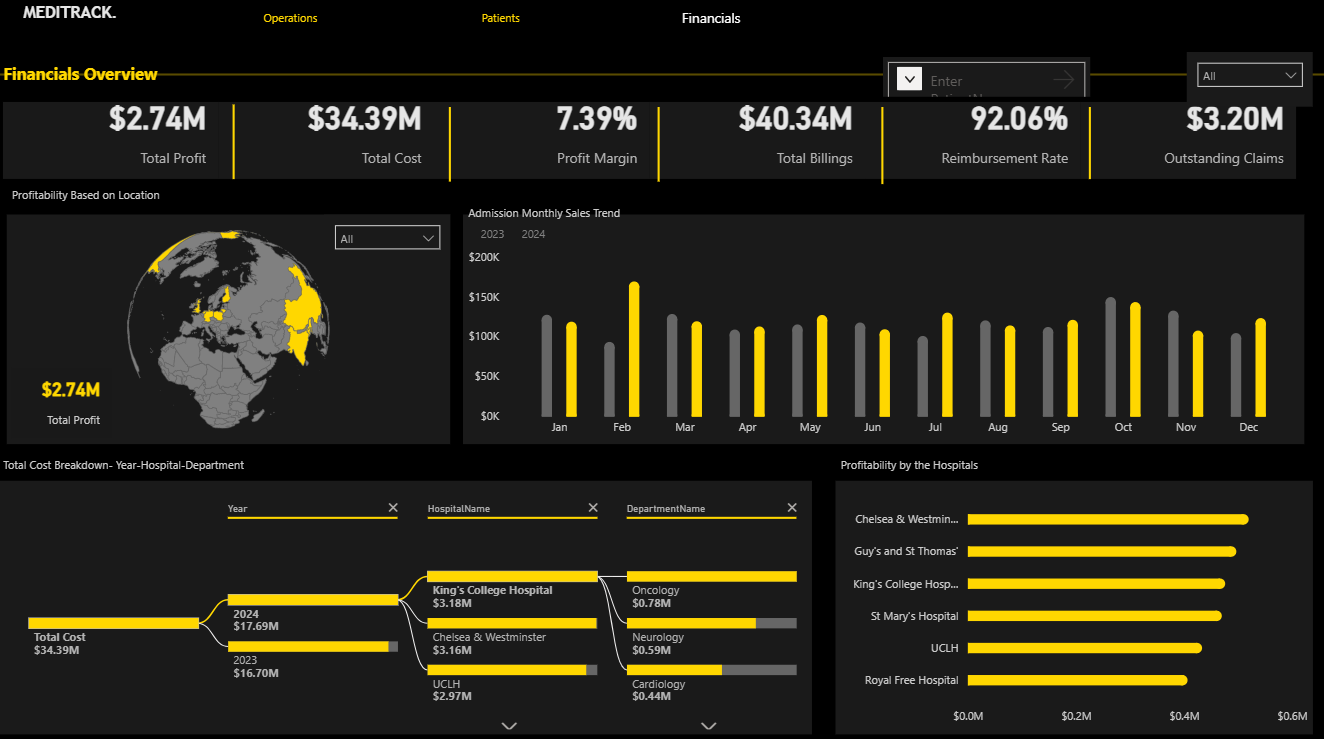

The page's visual inventory and layout, read from the dashboard file:
{"tool":"powerbi","page":{"name":"Financials","canvas":[1280,720],"ordinal":2},"visuals":[{"type":"cardVisual","fields":{"Data":["CalenderDim.Total Profit","CalenderDim.Total Cost","CalenderDim.Profit Margin","CalenderDim.Total Billings","CalenderDim.Reimbursement Rate","CalenderDim.Outstanding Claim"]},"box":[0,96.5,1260.7,84.5],"z":0},{"type":"textbox","box":[8.4,176.1,207.5,33.8],"z":1000},{"type":"clusteredColumnChart","fields":{"Category":["CalenderDim.Month Name"],"Y":["CalenderDim.Total Profit"],"Series":["CalenderDim.Year"]},"box":[448.8,209.9,811.9,222],"z":2000},{"type":"textbox","box":[0,436.7,281.1,30.2],"z":3000},{"type":"clusteredBarChart","fields":{"Category":["HospitalDim.HospitalName"],"Y":["CalenderDim.Total Profit"]},"box":[808.3,466.9,460.9,244.9],"z":4000},{"type":"textbox","box":[808.3,436.7,230.4,30.2],"z":5000},{"type":"textbox","box":[448.8,193,242.5,29],"z":6000},{"type":"shape","box":[182.2,103.8,90.5,72.4],"z":7000},{"type":"shape","box":[405.4,106.2,61.5,72.4],"z":8000},{"type":"shape","box":[592.4,106.2,90.5,72.4],"z":9000},{"type":"shape","box":[808.3,106.2,90.5,74.8],"z":10000},{"type":"shape","box":[0,42.2,1280,65.1],"z":11000},{"type":"textbox","box":[19.3,0,207.5,36.2],"z":12000},{"type":"slicer","fields":{"Values":["CalenderDim.Year"]},"box":[1147.3,53.1,121.9,53.1],"z":13000},{"type":"textSlicer","fields":{"Values":["PatientDim.PatientName"]},"box":[854.2,57.9,200.3,38.6],"z":14000},{"type":"textbox","box":[0,57.9,207.5,33.8],"z":15000},{"type":"pageNavigator","box":[185.8,3.6,599.6,32.6],"z":16000},{"type":"shapeMap","fields":{"Category":["HospitalDim.Country"],"Value":["CalenderDim.Total Profit"]},"box":[8.4,209.9,428.3,222],"z":17000},{"type":"shape","box":[1008.6,106.2,90.5,70],"z":18000},{"type":"decompositionTreeVisual","fields":{"Analyze":["CalenderDim.Total Cost"],"ExplainBy":["CalenderDim.Year","HospitalDim.HospitalName","DepartmentDim.DepartmentName"]},"box":[0,466.9,785.4,244.9],"z":19000},{"type":"cardVisual","fields":{"Data":["CalenderDim.Total Profit"]},"box":[8.4,352.3,107.4,79.6],"z":20000},{"type":"slicer","fields":{"Values":["HospitalDim.Country"]},"box":[314.9,209.9,121.9,53.1],"z":21000}]}

Visuals, with their boxes in screenshot pixels (x1, y1, x2, y2), scaled from the page's 1280x720 canvas onto the 1324x739 screenshot:
cardVisual - CalenderDim.Total Profit x CalenderDim.Total Cost: x1=0 y1=99 x2=1304 y2=186
textbox: x1=9 y1=181 x2=223 y2=215
clusteredColumnChart - CalenderDim.Month Name x CalenderDim.Total Profit: x1=464 y1=215 x2=1304 y2=443
textbox: x1=0 y1=448 x2=291 y2=479
clusteredBarChart - HospitalDim.HospitalName x CalenderDim.Total Profit: x1=836 y1=479 x2=1313 y2=731
textbox: x1=836 y1=448 x2=1074 y2=479
textbox: x1=464 y1=198 x2=715 y2=228
shape: x1=188 y1=107 x2=282 y2=181
shape: x1=419 y1=109 x2=483 y2=183
shape: x1=613 y1=109 x2=706 y2=183
shape: x1=836 y1=109 x2=930 y2=186
shape: x1=0 y1=43 x2=1323 y2=110
textbox: x1=20 y1=0 x2=235 y2=37
slicer - CalenderDim.Year: x1=1187 y1=55 x2=1313 y2=109
textSlicer - PatientDim.PatientName: x1=884 y1=59 x2=1091 y2=99
textbox: x1=0 y1=59 x2=215 y2=94
pageNavigator: x1=192 y1=4 x2=812 y2=37
shapeMap - HospitalDim.Country x CalenderDim.Total Profit: x1=9 y1=215 x2=452 y2=443
shape: x1=1043 y1=109 x2=1137 y2=181
decompositionTreeVisual - CalenderDim.Total Cost x CalenderDim.Year: x1=0 y1=479 x2=812 y2=731
cardVisual - CalenderDim.Total Profit: x1=9 y1=362 x2=120 y2=443
slicer - HospitalDim.Country: x1=326 y1=215 x2=452 y2=270
